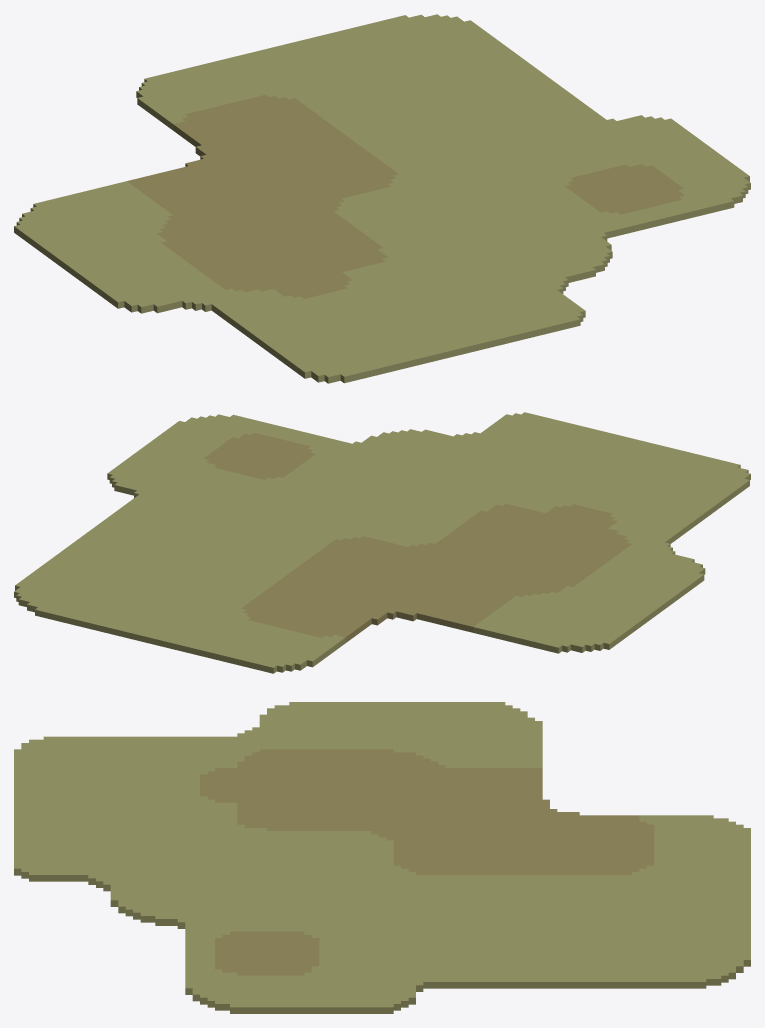
The model's file is desert.obj.
3 views of the same model, one above another, from view 1: azimuth 30°, elevation 25°; view 2: azimuth 150°, elevation 25°; view 3: azimuth 270°, elevation 25° (orthographic). The views are drawn at different scales.
Size of the model in its own units: 97 by 1 by 99.
Materials: 1 (1 with a texture image).
